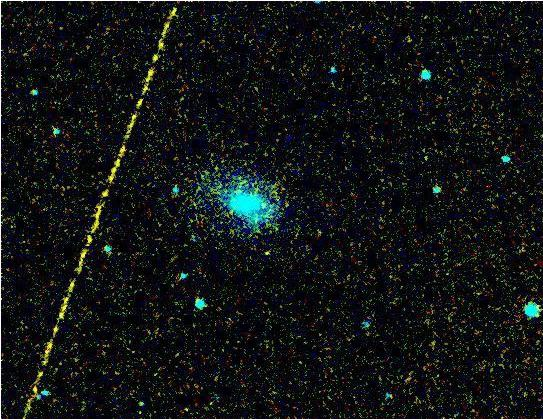star: (249, 236, 279, 266)
